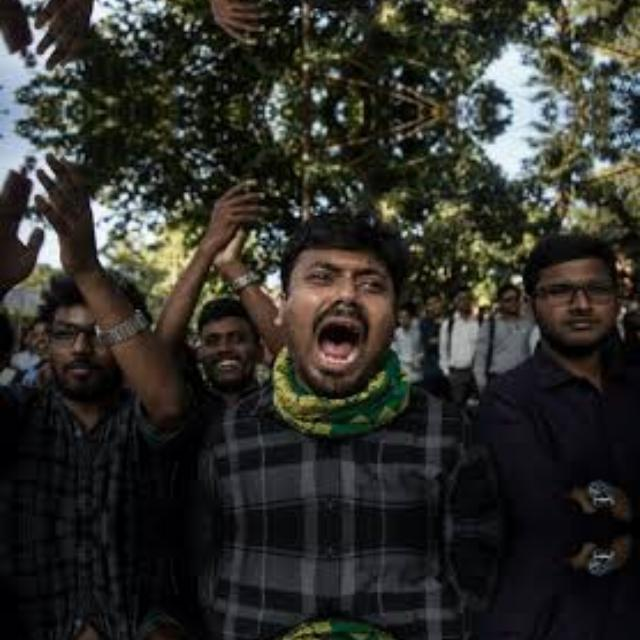person: (262, 198, 444, 528), (491, 212, 640, 527), (261, 528, 444, 640), (491, 527, 640, 640), (261, 0, 444, 24), (491, 0, 640, 9)
